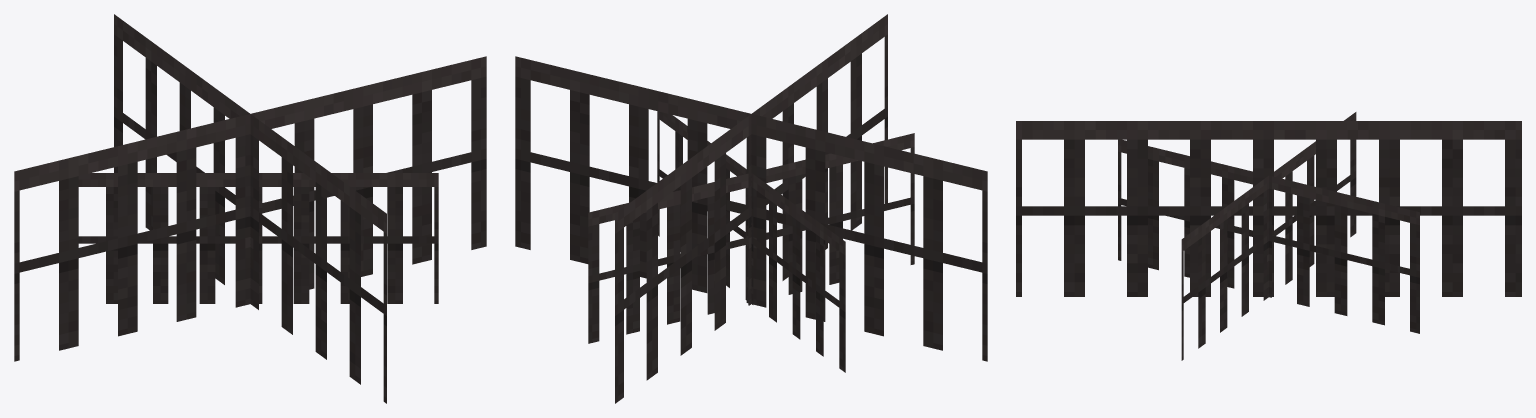
File: tree_shrub.glb
The picture shows the model from 3 angles, left to right: view 1: azimuth 30°, elevation 25°; view 2: azimuth 150°, elevation 25°; view 3: azimuth 270°, elevation 25°; orthographic projection. The views are drawn at different scales.
Visible parts, largest first — view 1: tree-shrub; view 2: tree-shrub; view 3: tree-shrub.
Part boxes in pixels (left/top/right/bottom): tree-shrub: left=14, top=14, right=486, bottom=403; tree-shrub: left=515, top=14, right=987, bottom=403; tree-shrub: left=1016, top=112, right=1521, bottom=360.
Size of the model in its own units: 0.78 by 0.3 by 0.78.
Materials: 1 (1 with a texture image).
